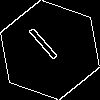I: (25, 25, 68, 70)
